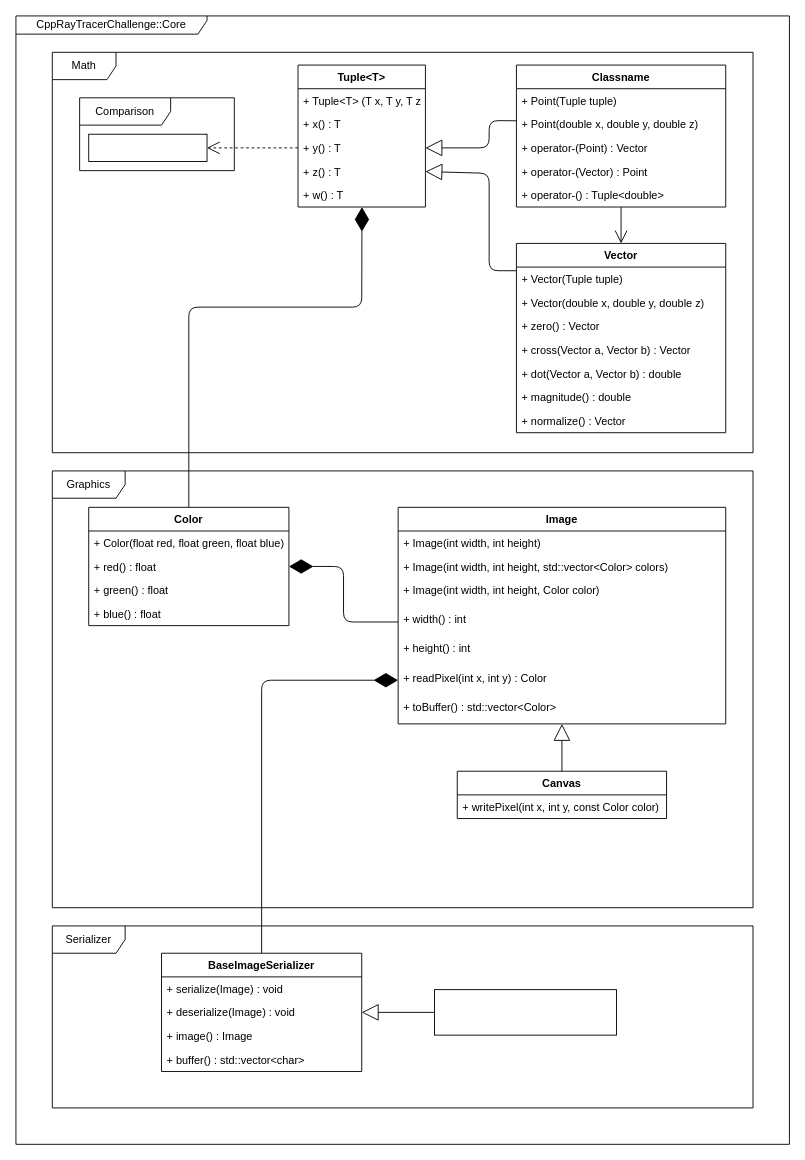
Image size: 805x1160. Some labels were removed from this diagram. The centre of each missing label's shape, as x and y in pixels:
"+ equal(T lhs, T rhs)" belongs at pixel 147 147.
"PortablePixmapImageSerializer" belongs at pixel 525 1012.
